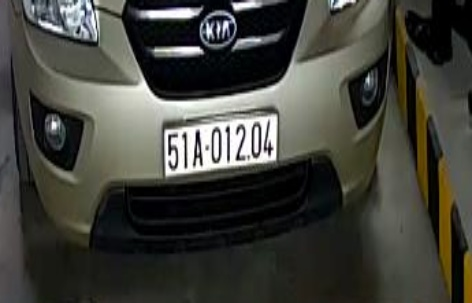plate: (161, 118, 276, 170)
